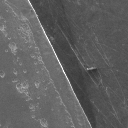corrosion: (8, 42, 19, 54), (39, 117, 51, 128), (1, 70, 7, 78), (22, 68, 28, 74)
